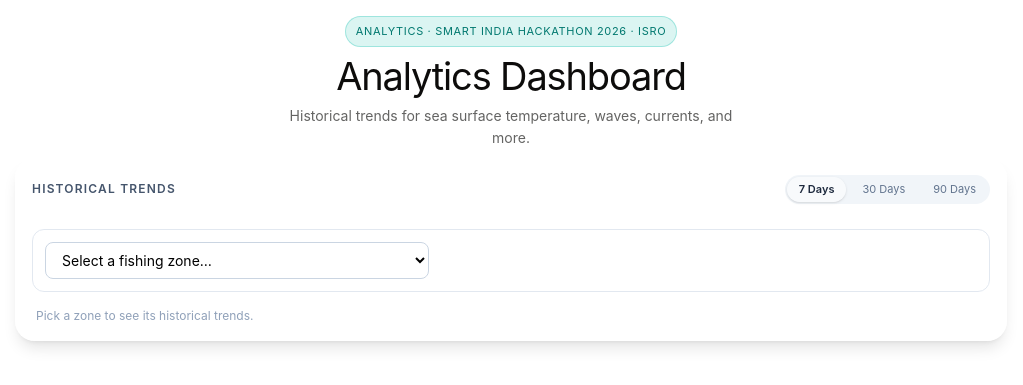
AnalyticsPage — historical data › shows an error banner when the historical fetch fails, without crashing
Select "PFZ-001 — near Kochi" in the dropdown. click: [237, 260]
box: left=45, top=242, right=429, bottom=278
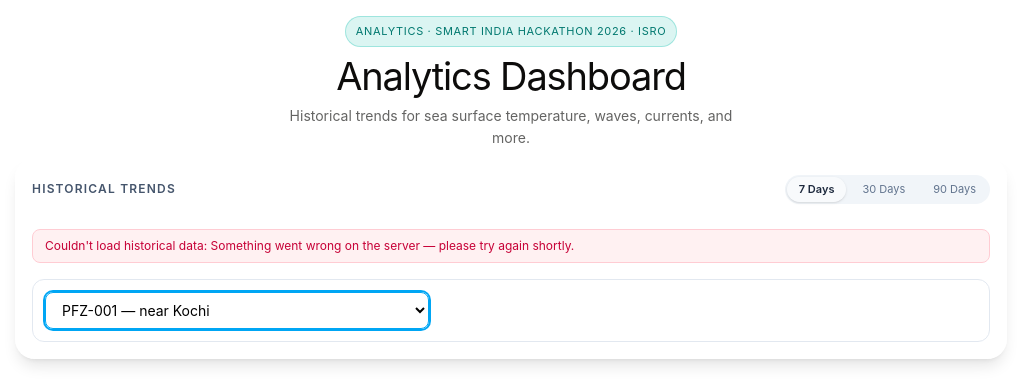
expect the text "Couldn't load historical data" is shown: met, box left=45, top=238, right=210, bottom=252
